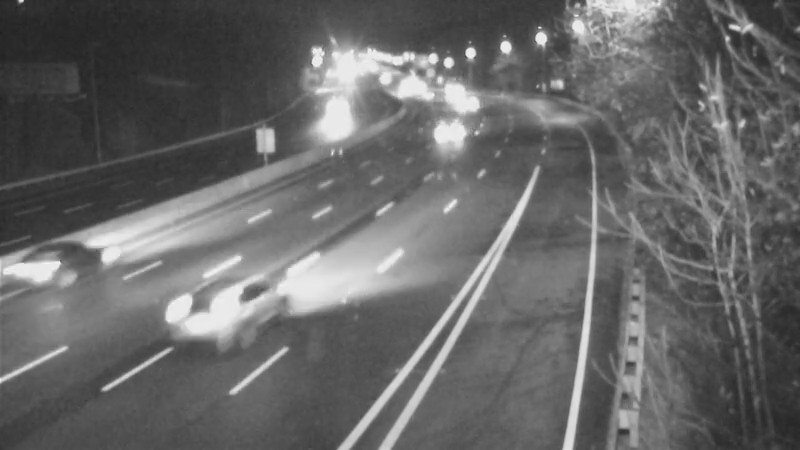vehicle: (149, 258, 259, 368), (1, 223, 77, 303), (360, 56, 410, 106), (382, 66, 432, 116), (428, 73, 478, 123), (446, 81, 496, 131), (425, 100, 475, 150), (315, 85, 365, 135)
